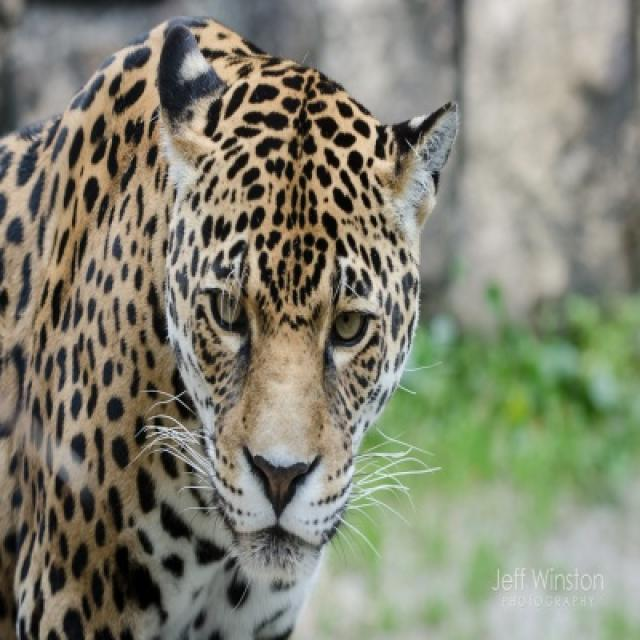Jaguar: (0, 18, 459, 638)
